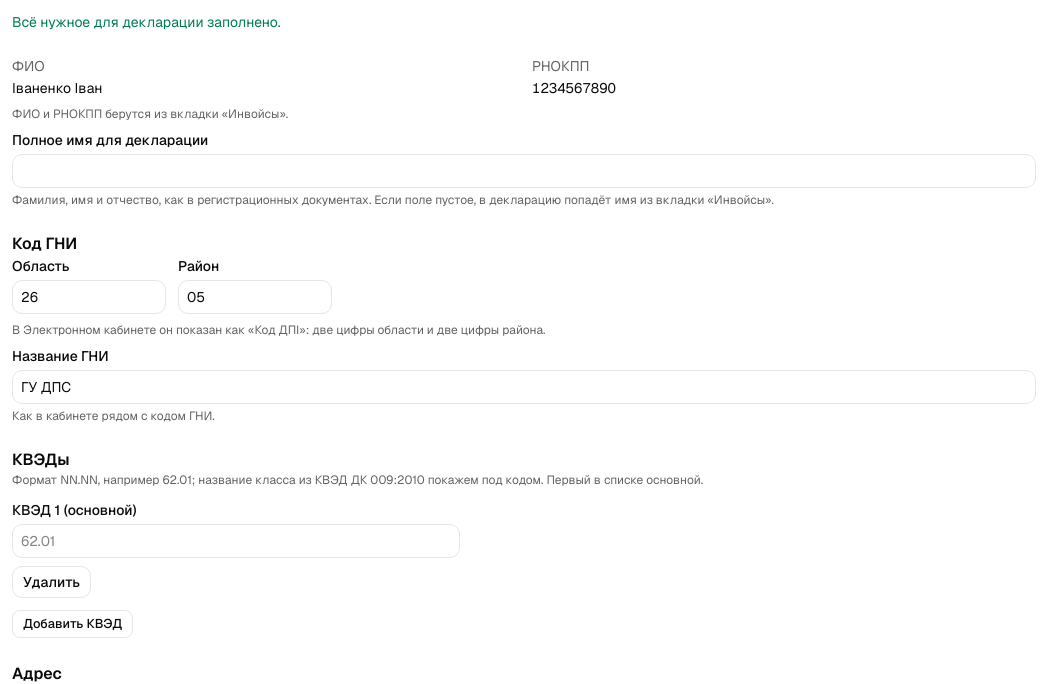
DeclarationDetailsForm KVED names in ru › shows the name of a code as it is typed and nothing for an unfinished one
In the field labelled "КВЭД 1 (основной)": (236, 541) left=12, top=524, right=460, bottom=558, type "85.5"
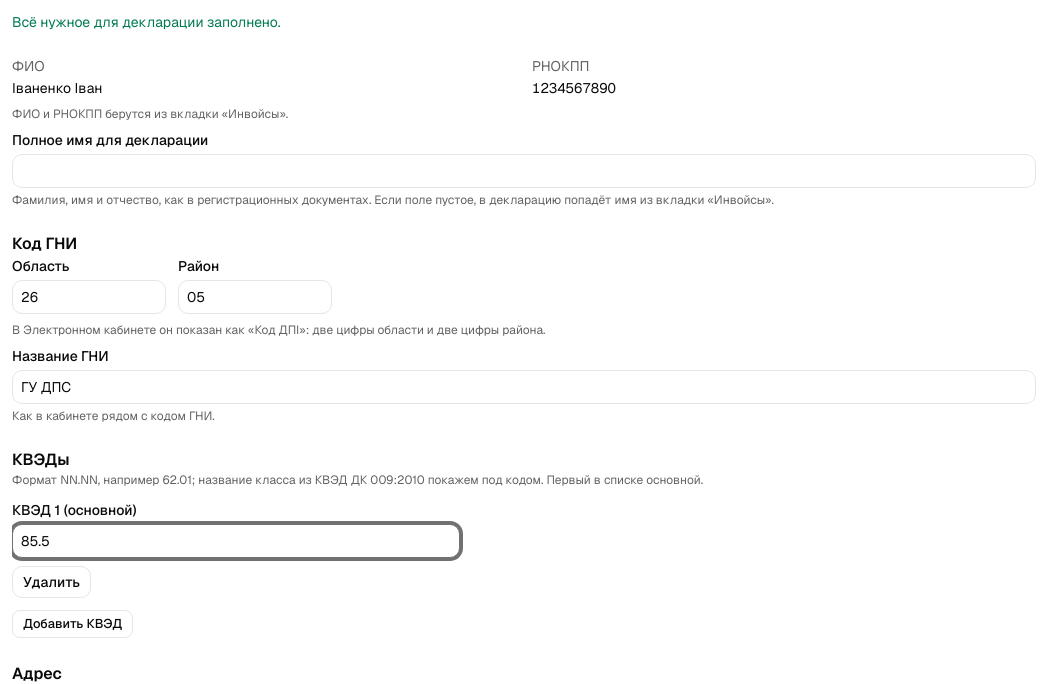
Check: the text "Інші види освіти, н.в.і.у." is not shown
In the field labelled "КВЭД 1 (основной)": (236, 541) left=12, top=524, right=460, bottom=558, type "9"
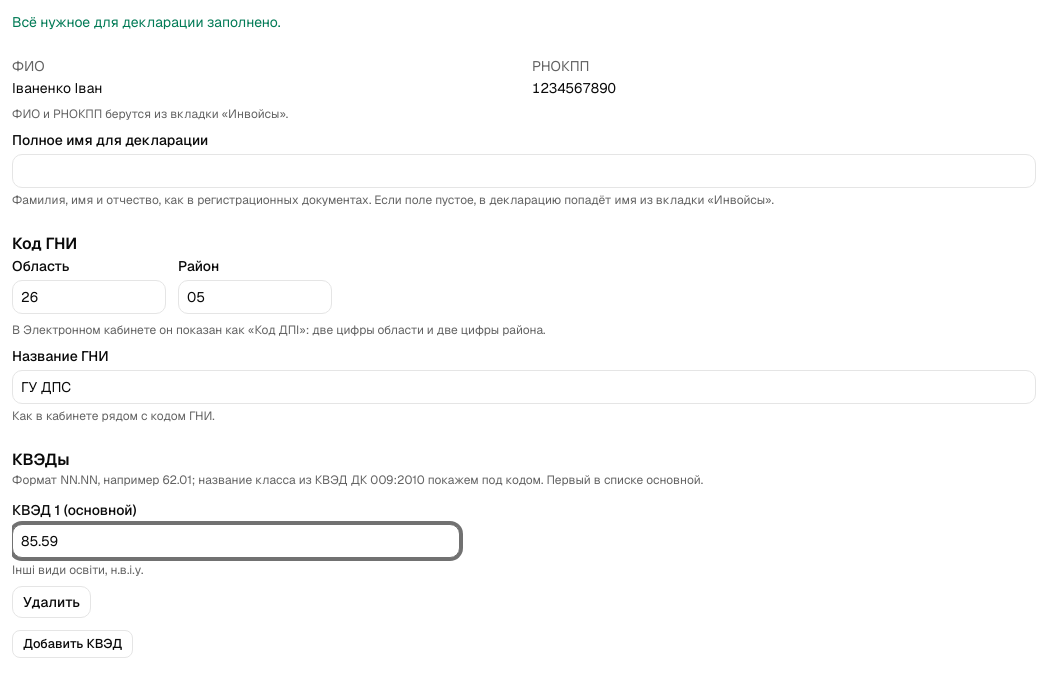
Check: the text "Інші види освіти, н.в.і.у." is shown, box left=12, top=562, right=144, bottom=578
